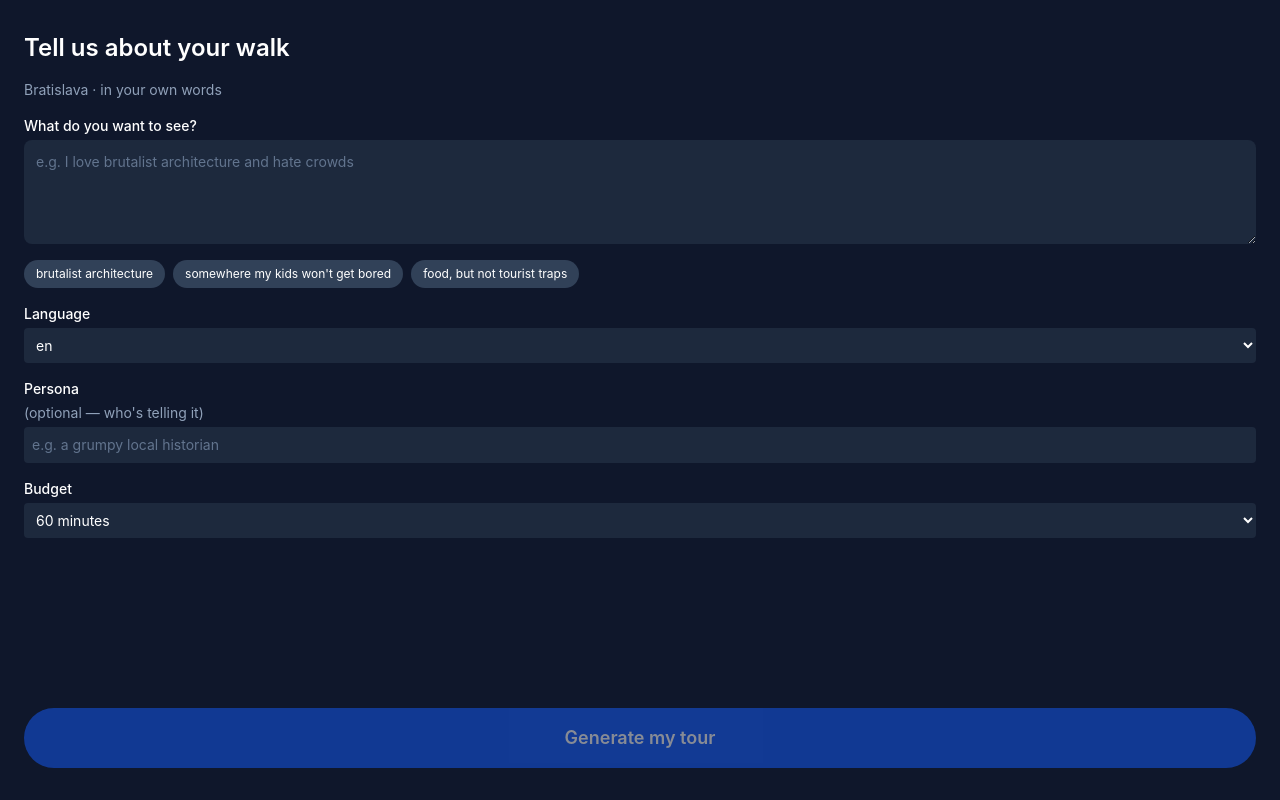
Test: GenerateScreen › clicking a chip does not itself submit or select a category — it only edits the textarea
The width and height of the screenshot is (1280, 800).
Click the button "food, but not tourist traps": (495, 274) [411, 260, 579, 288]
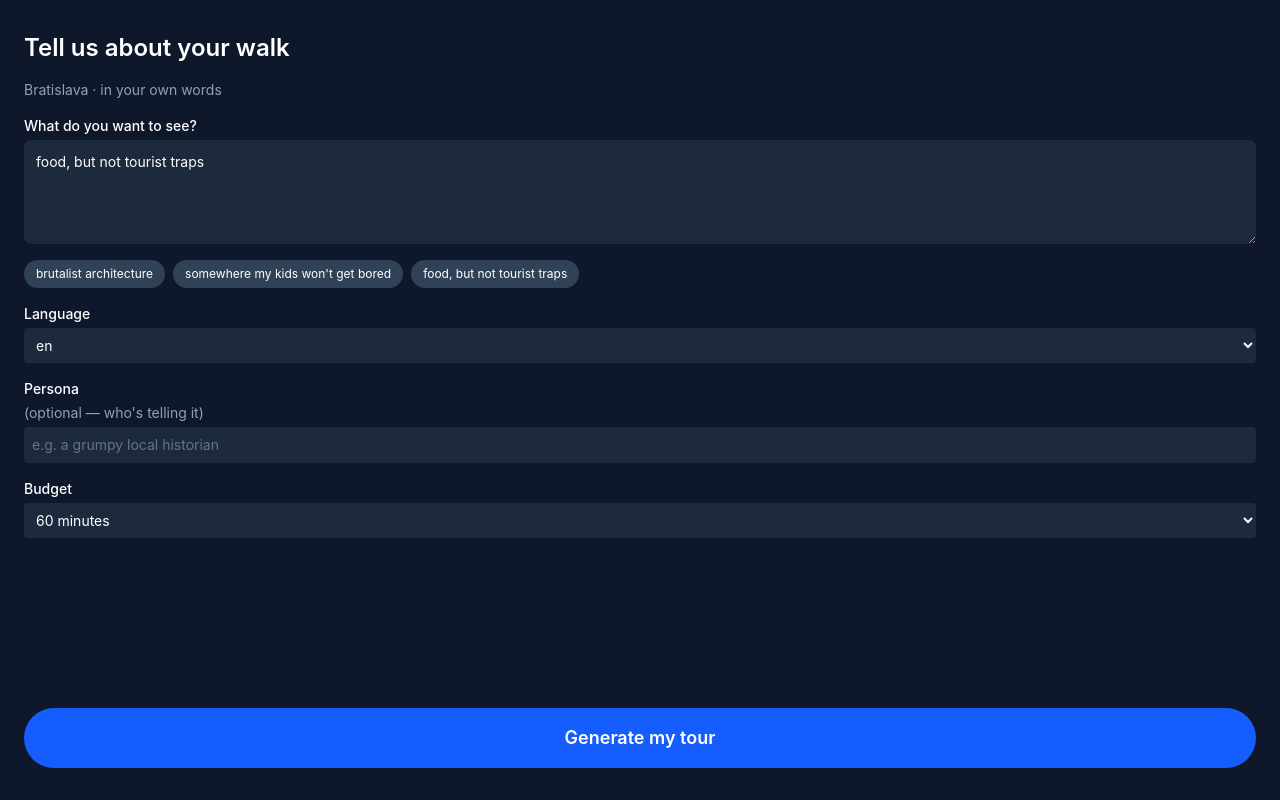
Now the text box labelled "What do you want to see?" holds "food, but not tourist traps", box [24, 140, 1256, 244]
